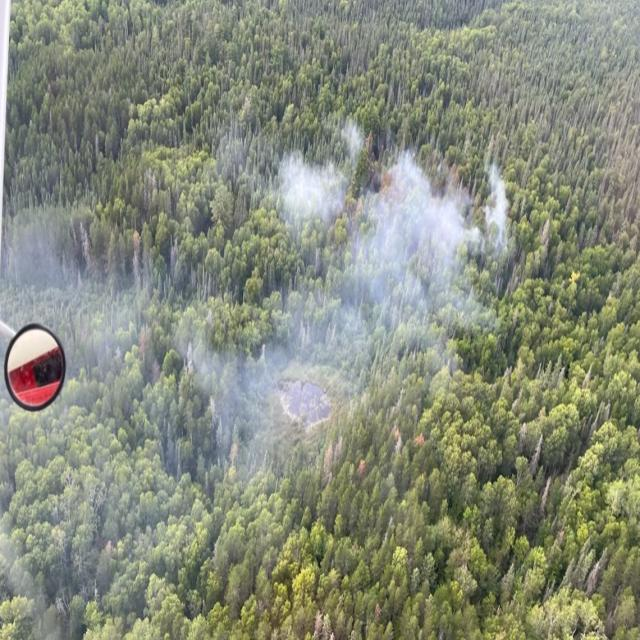Smoke: (186, 290, 372, 488), (81, 221, 168, 529), (377, 130, 478, 350), (282, 105, 366, 242), (488, 160, 514, 273)
